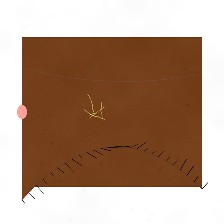corneal_ulcer: (69, 91, 131, 140)
